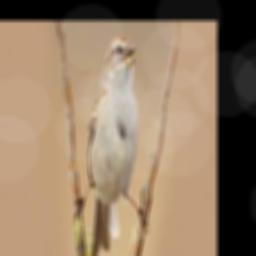Sparrow: (74, 36, 149, 256)
